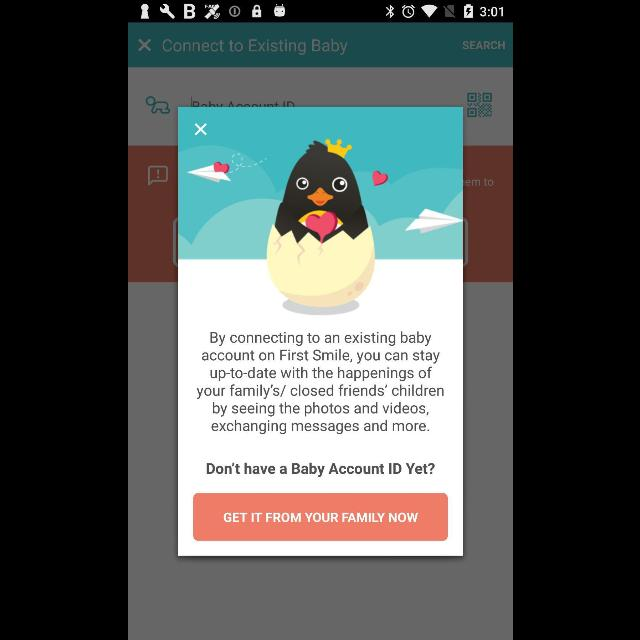icon: (146, 166, 168, 186), (137, 38, 151, 52), (194, 122, 206, 136)
image: (178, 108, 462, 316), (466, 93, 492, 117), (145, 96, 169, 114)
panel: (178, 107, 462, 556)
text: (195, 332, 442, 434), (206, 461, 434, 477), (162, 38, 348, 56), (462, 40, 504, 50)
textbutton: (192, 493, 448, 541)
uppertaskbar: (128, 1, 512, 23)
